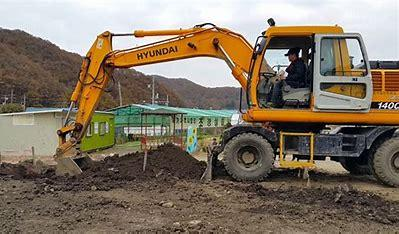C_E: (42, 15, 399, 190)
